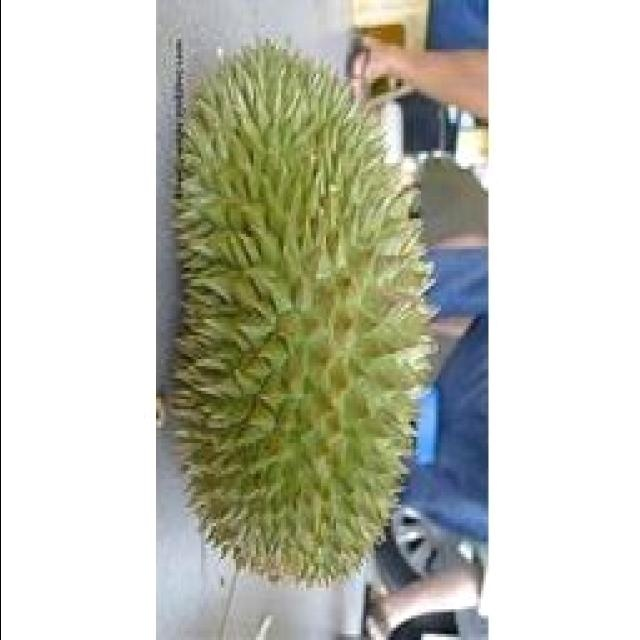agrume: (164, 41, 428, 588)
